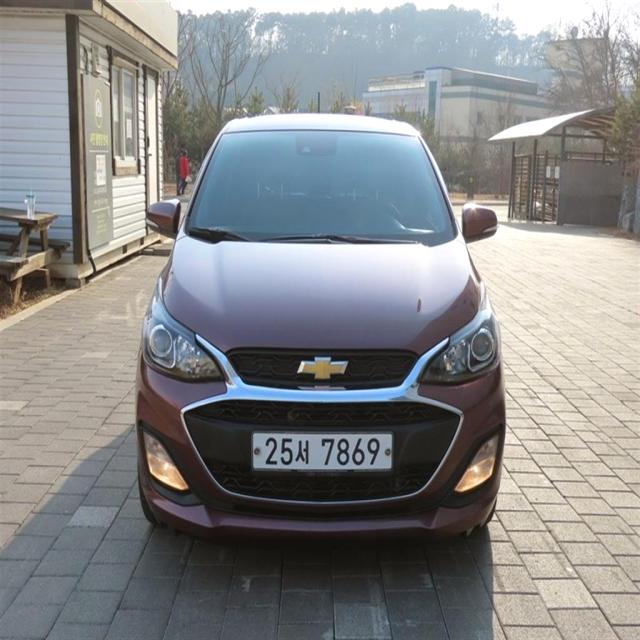car: (138, 106, 511, 558)
illegal_plate: (248, 428, 400, 483)
